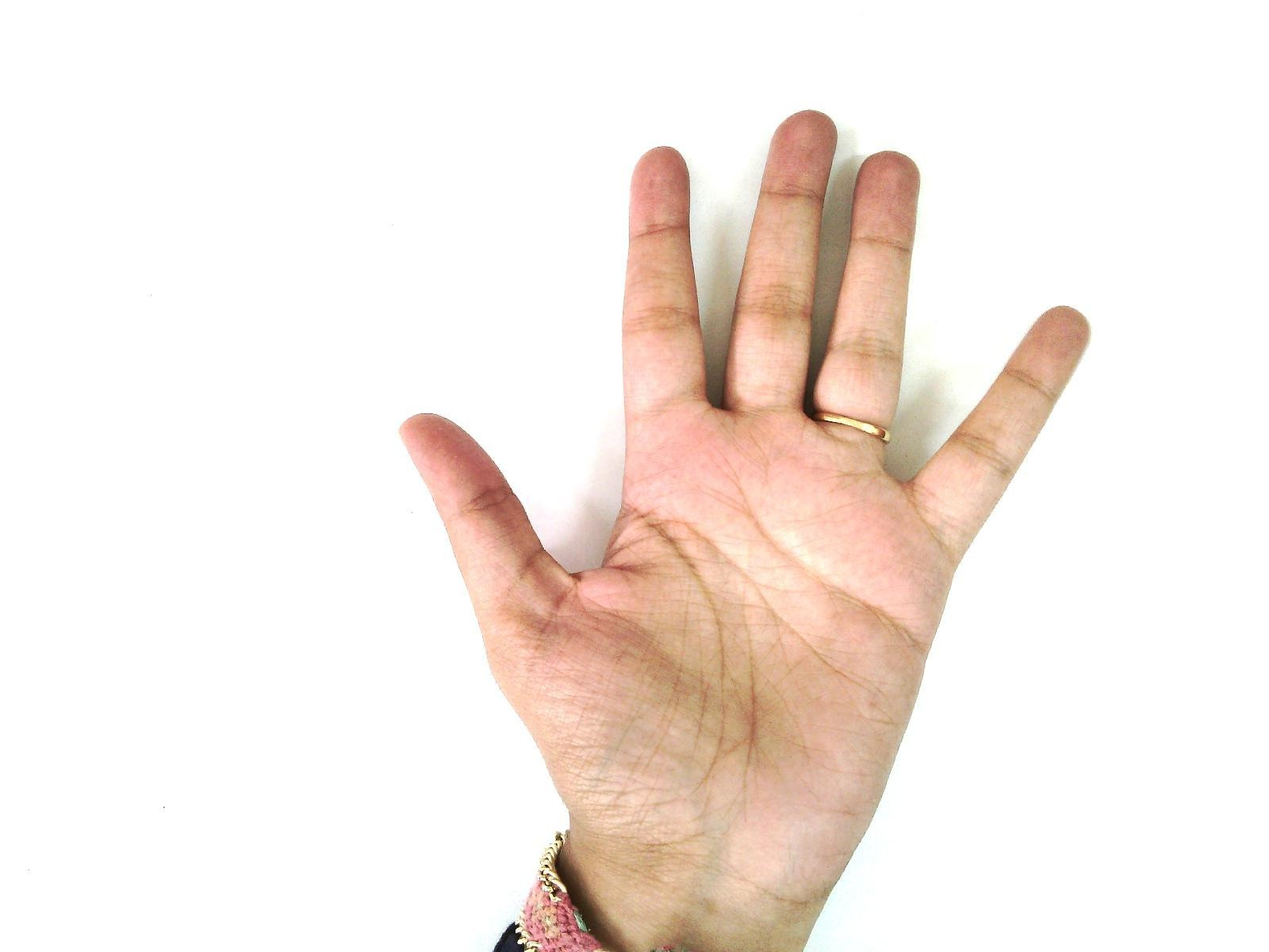open_palm: (397, 109, 1090, 906)
